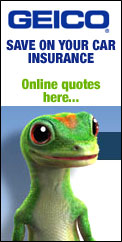Geico: (7, 6, 114, 32)
